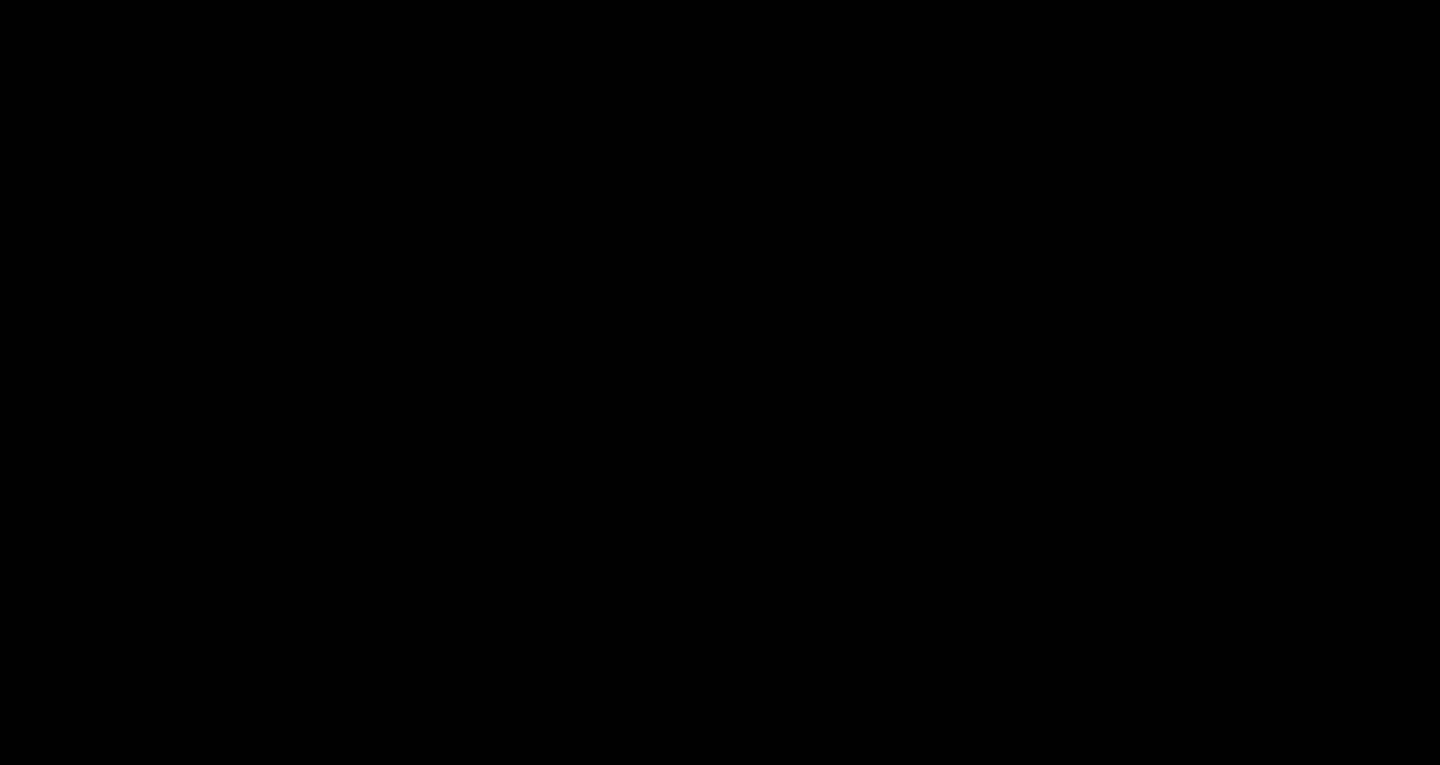
Test: App — a completed campaign reaches its ending screen › shows the campaign ending, not the run-summary screen, past the week budget
Press Enter
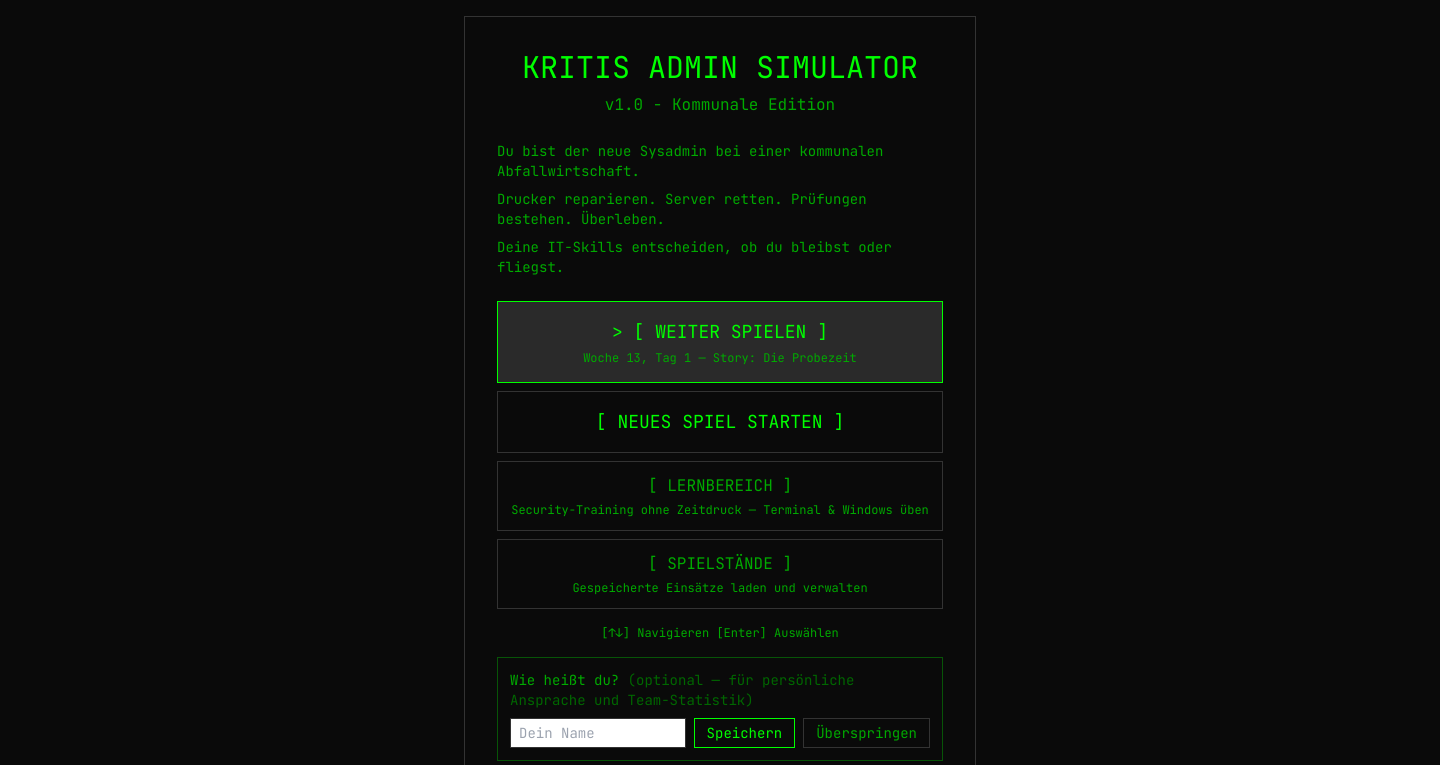
Click the button "> [ WEITER SPIELEN ] Woche 13, Tag 1 — Story: Die Probezeit".
click(720, 342)  # box [497, 301, 943, 383]
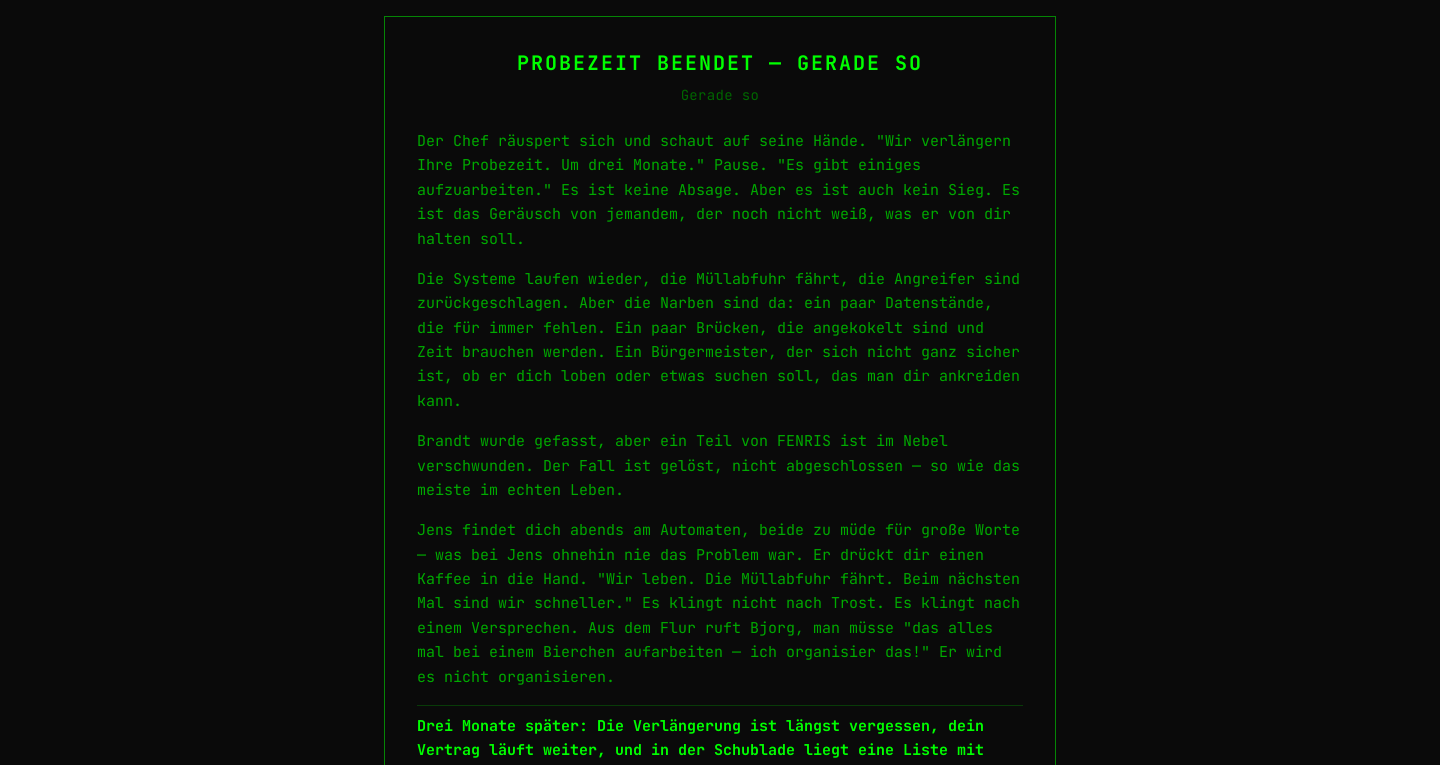
expect the text "PROBEZEIT BEENDET — GERADE SO" is shown: met, box [517, 50, 923, 76]
